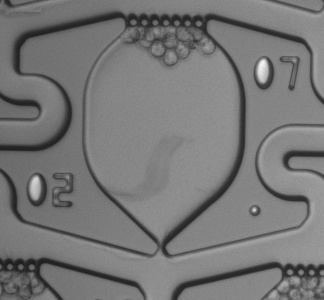AptNum: (247, 51, 309, 96)
Marker: (240, 196, 270, 223)
StNum: (20, 165, 82, 215)
Trap: (140, 246, 184, 288)
